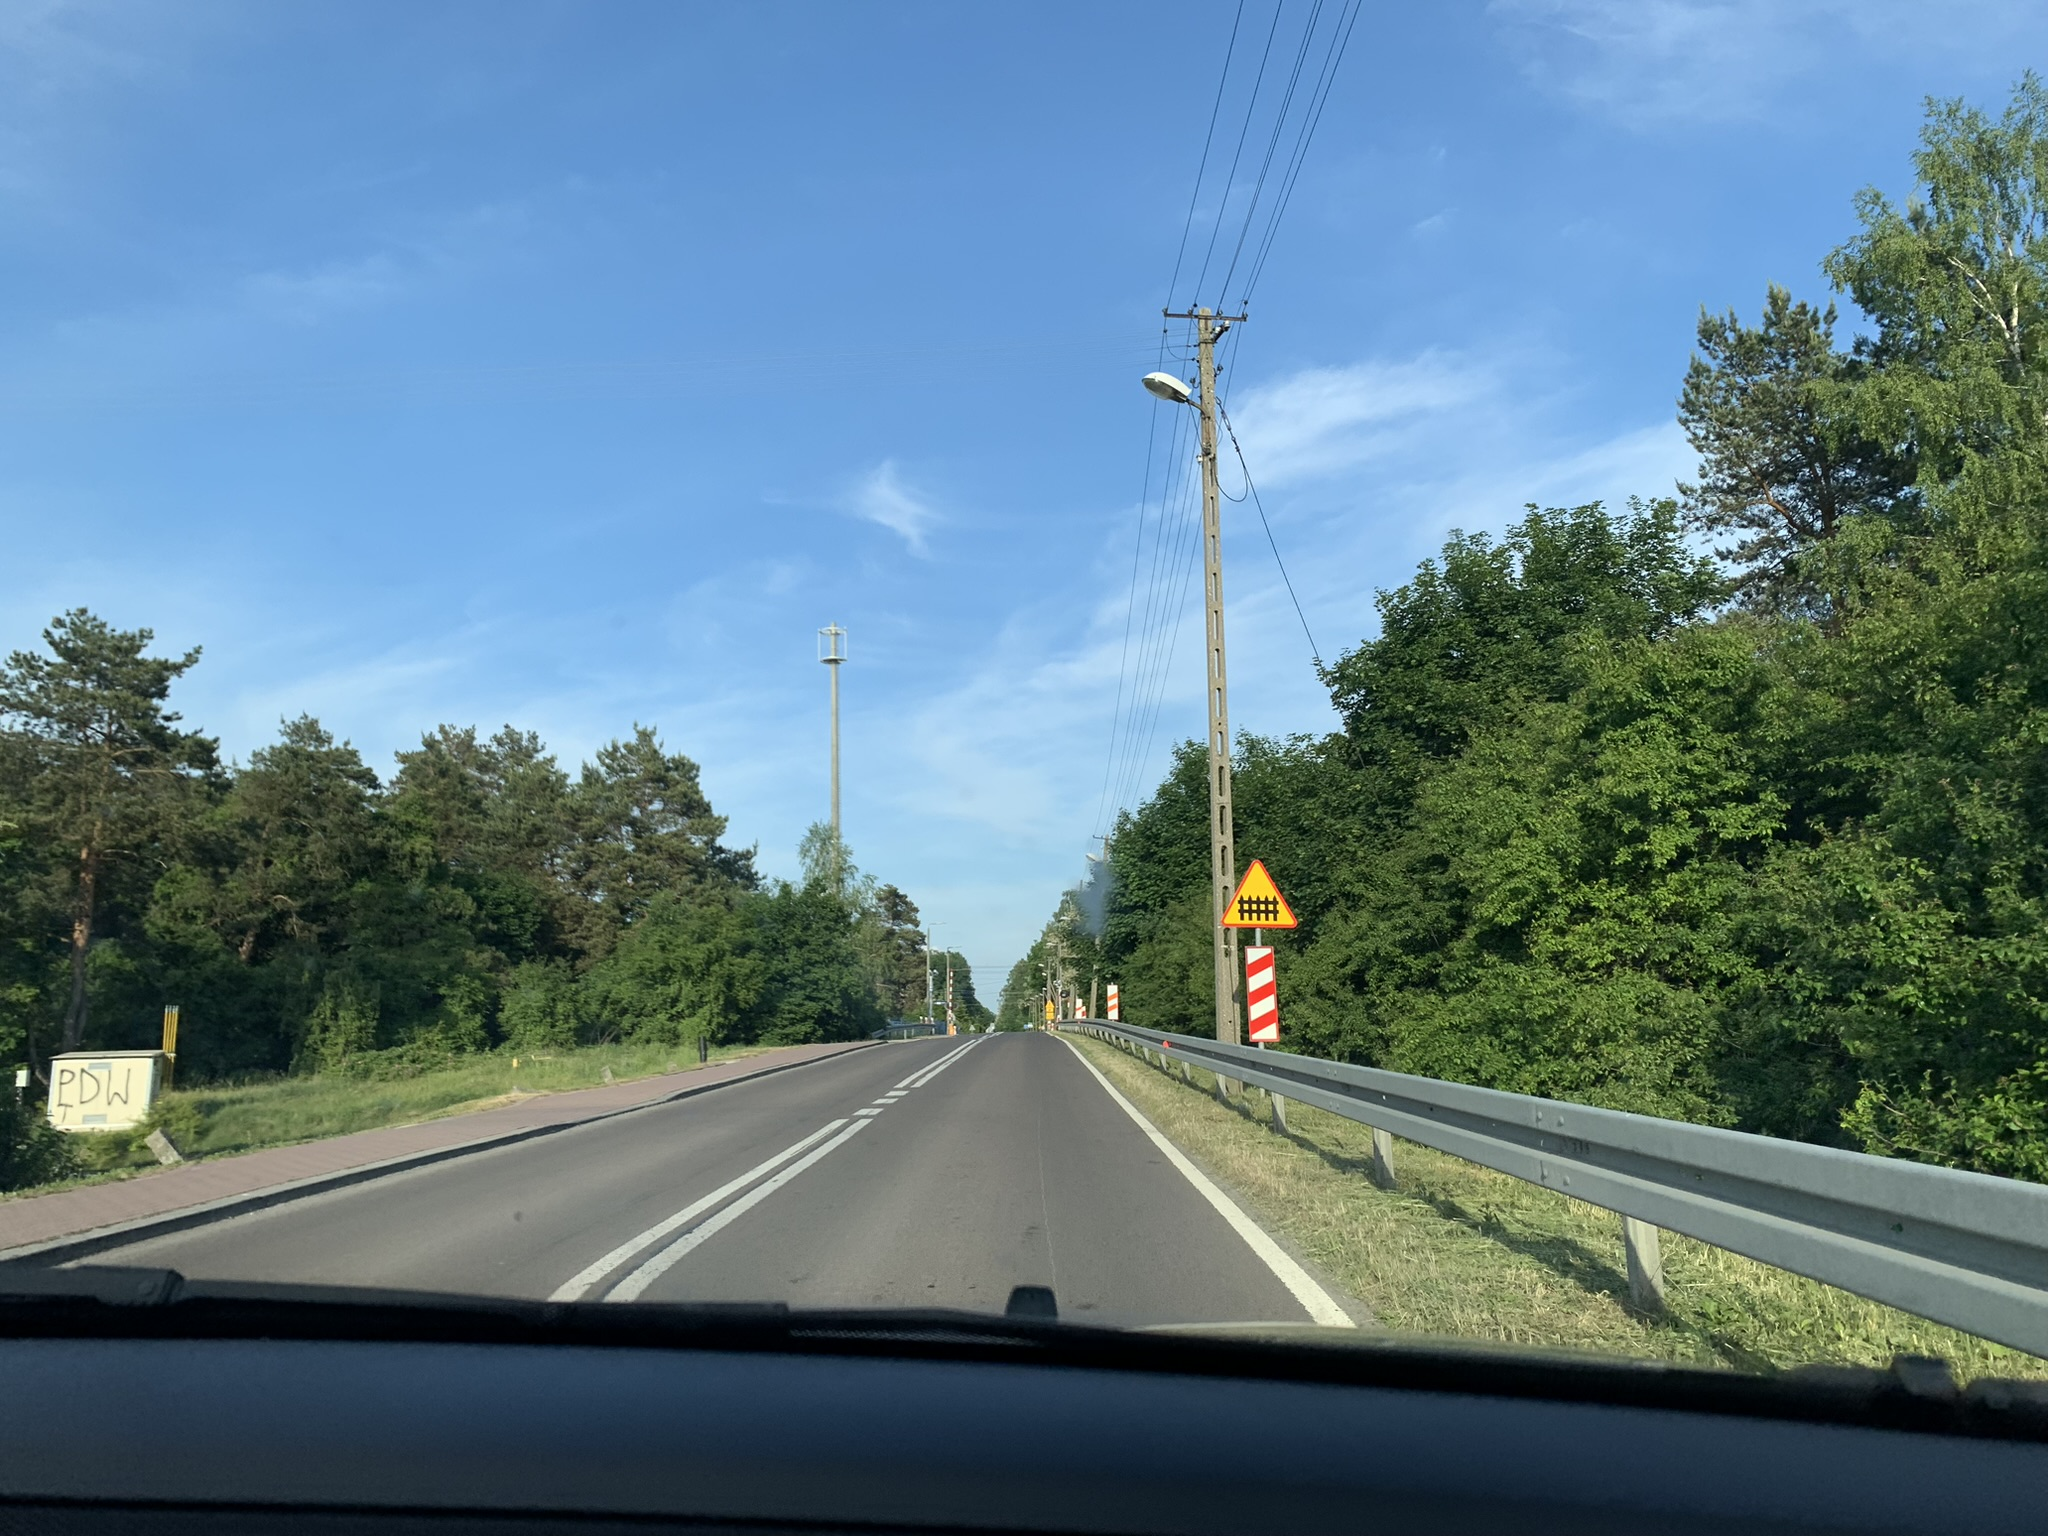a9: (1235, 892, 1280, 923)
